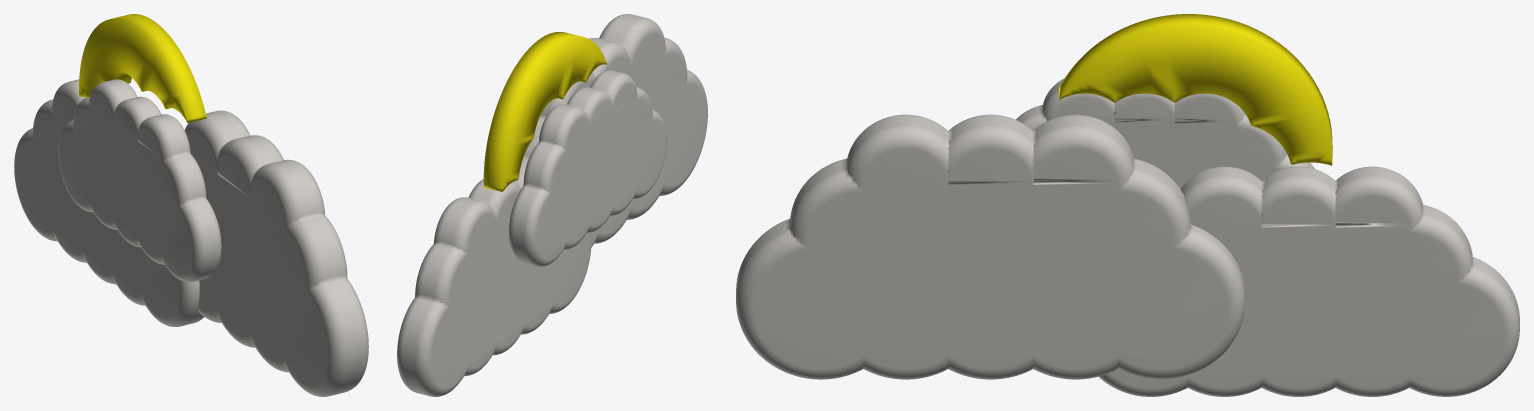
File: sunnyCloud.glb
3 renders of one model, left to right at view 1: azimuth 30°, elevation 25°; view 2: azimuth 150°, elevation 25°; view 3: azimuth 270°, elevation 25°, orthographic. The views are drawn at different scales.
Visible parts, largest first — view 1: Sun-cloudy v11, Sun-cloudy v11.001; view 2: Sun-cloudy v11, Sun-cloudy v11.001; view 3: Sun-cloudy v11, Sun-cloudy v11.001.
Boxes of the visible parts, bbox=[...] form: Sun-cloudy v11: bbox=[14, 79, 368, 396]; Sun-cloudy v11.001: bbox=[79, 14, 206, 123]; Sun-cloudy v11: bbox=[397, 14, 707, 396]; Sun-cloudy v11.001: bbox=[483, 32, 607, 191]; Sun-cloudy v11: bbox=[736, 78, 1519, 396]; Sun-cloudy v11.001: bbox=[1059, 14, 1332, 165].
Bounding box in the file's own units: 22.08 × 70.98 × 139.
